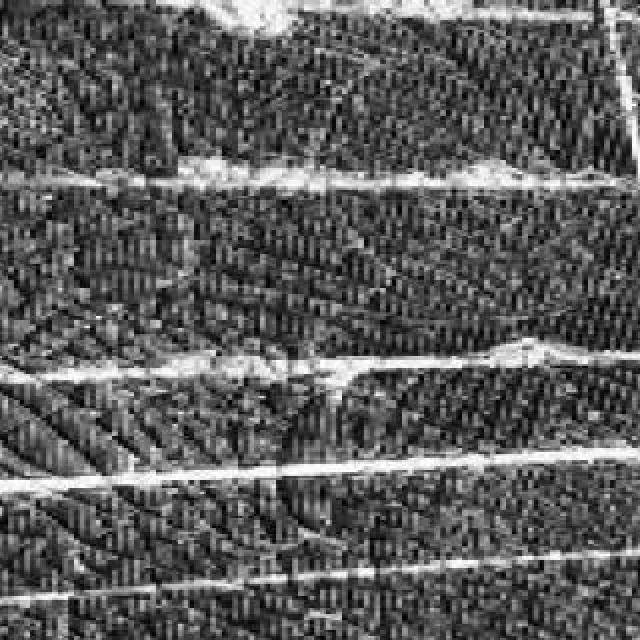Physical-damage: (48, 36, 596, 606)
